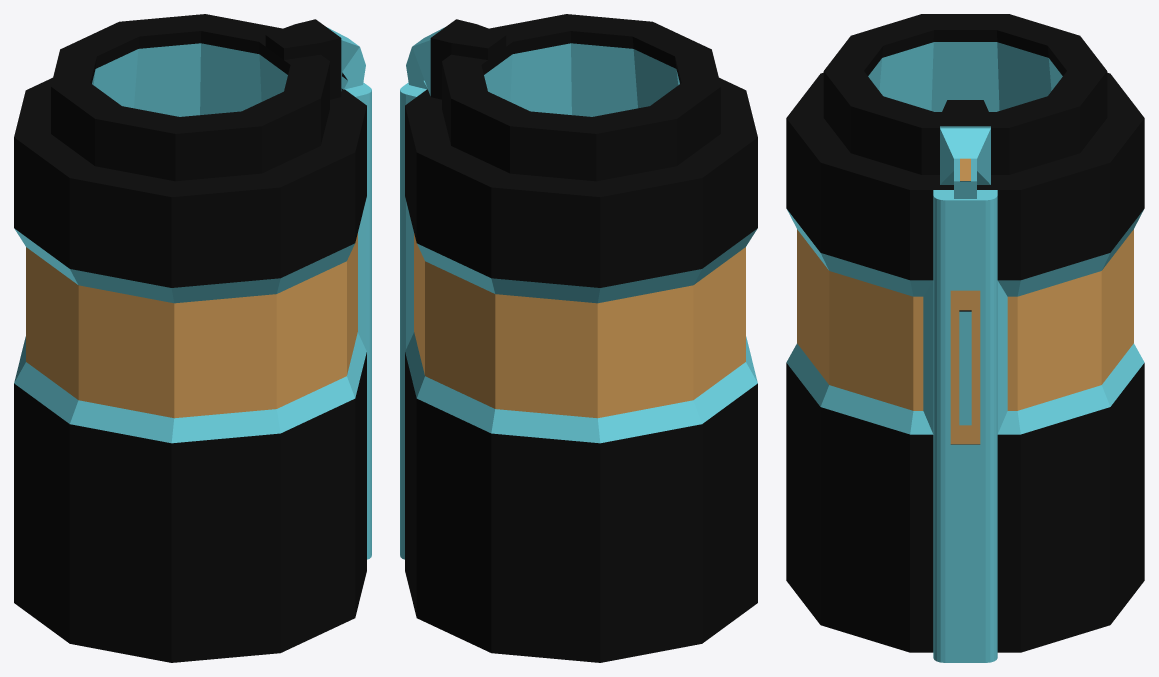
File: Barrel_1.fbx
3 renders of one model, left to right at view 1: azimuth 30°, elevation 25°; view 2: azimuth 150°, elevation 25°; view 3: azimuth 270°, elevation 25°, orthographic.
Visible parts, largest first — view 1: Cylinder.008; view 2: Cylinder.008; view 3: Cylinder.008.
Part boxes in pixels (<box>): Cylinder.008: <box>14,14,371,662</box>; Cylinder.008: <box>400,14,757,662</box>; Cylinder.008: <box>786,14,1144,662</box>.
Size of the model in its own units: 205 by 321 by 200.
